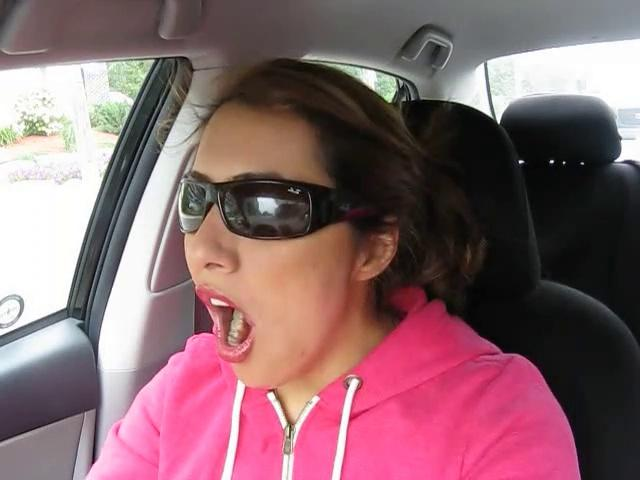yawn: (183, 291, 273, 371)
